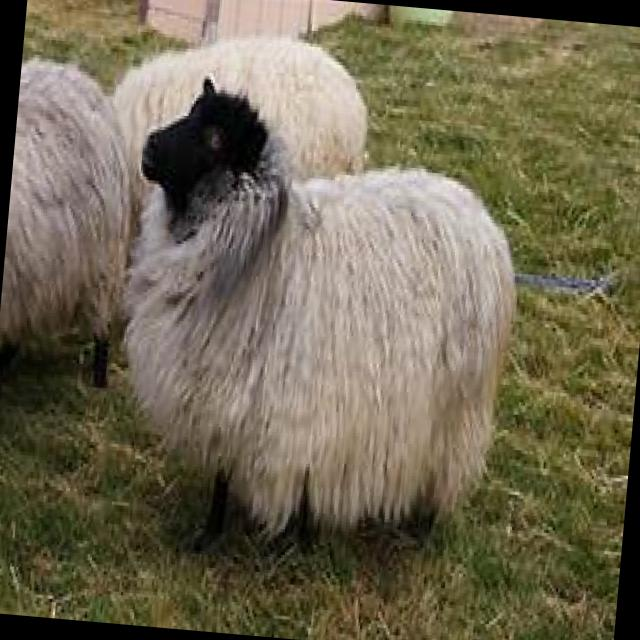sheep: (102, 67, 536, 570), (100, 17, 376, 268), (0, 49, 150, 392)
